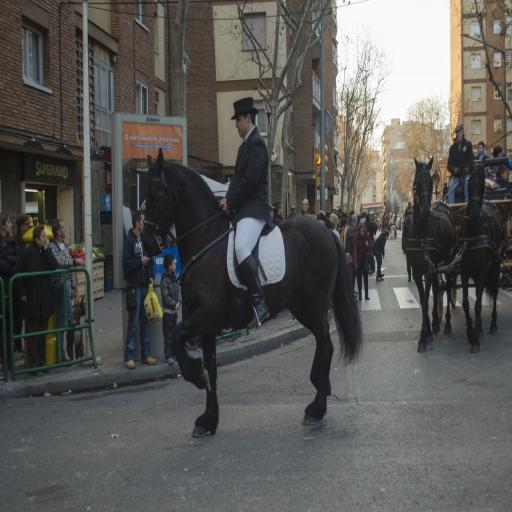horse: (142, 148, 364, 436), (405, 156, 454, 352), (456, 154, 502, 354)
